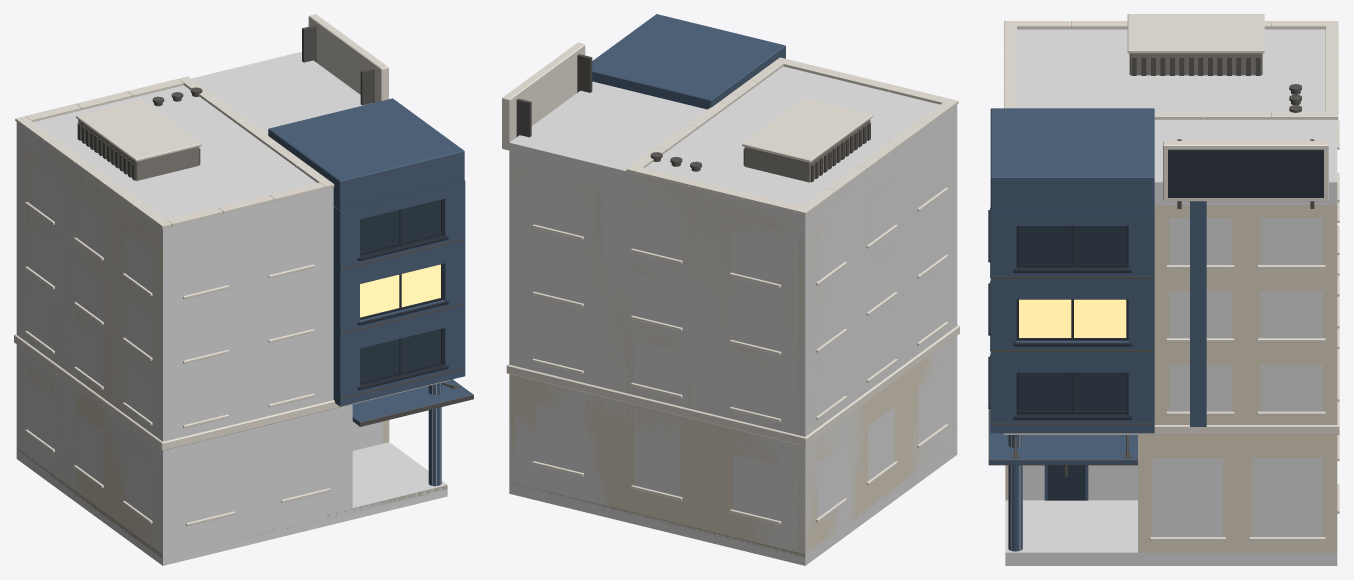
The picture shows the model from 3 angles, left to right: view 1: azimuth 30°, elevation 25°; view 2: azimuth 150°, elevation 25°; view 3: azimuth 270°, elevation 25°; orthographic projection. The views are drawn at different scales.
Parts seen in each view (by area): view 1: T04_body, col_upper, col_ground_side, col_floor, col_ground_main; view 2: col_upper, T04_body, col_ground_main, col_floor, col_ground_side; view 3: T04_body, col_upper, col_ground_main, col_floor, col_ground_side, col_corner.
Boxes of the visible parts, x1=… form: T04_body: x1=14, y1=14, x2=473, y2=558; col_upper: x1=16, y1=51, x2=371, y2=441; col_ground_side: x1=104, y1=404, x2=352, y2=554; col_floor: x1=16, y1=442, x2=447, y2=565; col_ground_main: x1=16, y1=344, x2=382, y2=496; col_upper: x1=509, y1=66, x2=957, y2=436; T04_body: x1=502, y1=14, x2=959, y2=557; col_ground_main: x1=509, y1=383, x2=894, y2=553; col_floor: x1=509, y1=443, x2=957, y2=565; col_ground_side: x1=907, y1=336, x2=957, y2=477; T04_body: x1=988, y1=14, x2=1339, y2=552; col_upper: x1=1017, y1=29, x2=1337, y2=411; col_ground_main: x1=1152, y1=458, x2=1322, y2=536; col_floor: x1=1005, y1=500, x2=1337, y2=565; col_ground_side: x1=1023, y1=465, x2=1137, y2=500; col_corner: x1=1008, y1=435, x2=1022, y2=550.
Size of the model in its own units: 9.66 by 11.35 by 8.47.
